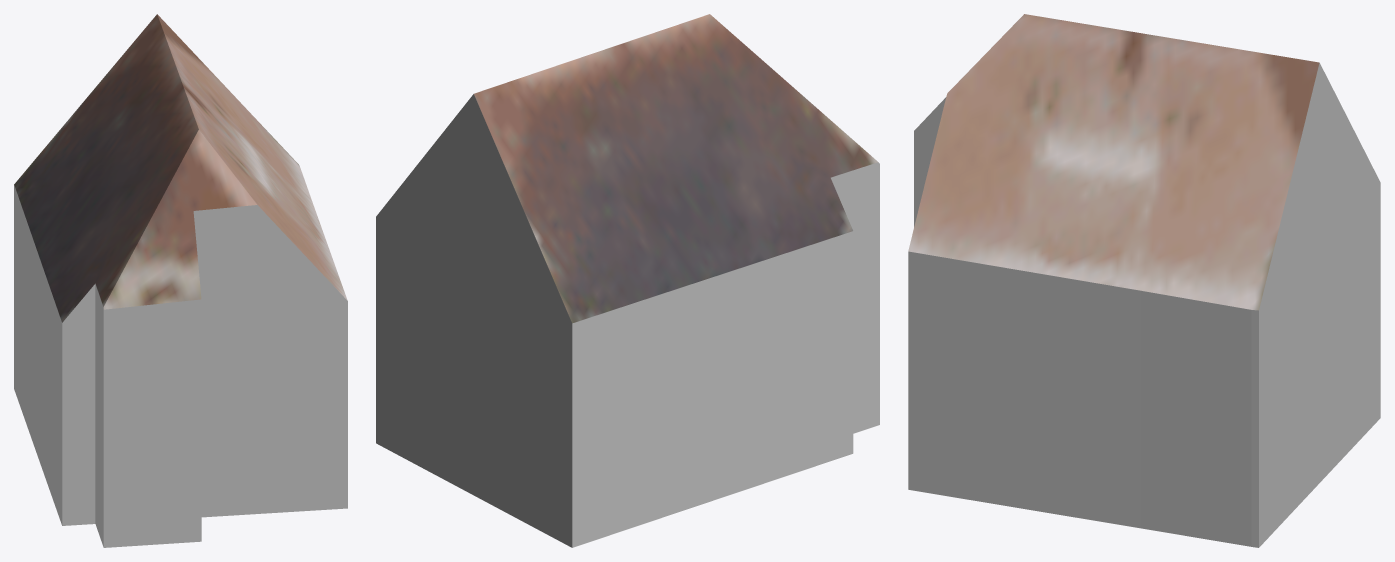
File: DEBW_0010007Txfb.gltf
3 renders of one model, left to right at view 1: azimuth 30°, elevation 25°; view 2: azimuth 150°, elevation 25°; view 3: azimuth 270°, elevation 25°, orthographic. The views are drawn at different scales.
Visible parts, largest first — view 1: Z_UP; view 2: Z_UP; view 3: Z_UP.
Boxes of the visible parts, x1=… form: Z_UP: x1=14, y1=14, x2=347, y2=547; Z_UP: x1=376, y1=14, x2=879, y2=547; Z_UP: x1=908, y1=14, x2=1380, y2=547.
Bounding box in the file's own units: 12.81 × 13.34 × 13.58.
2 materials, 1 textured.
